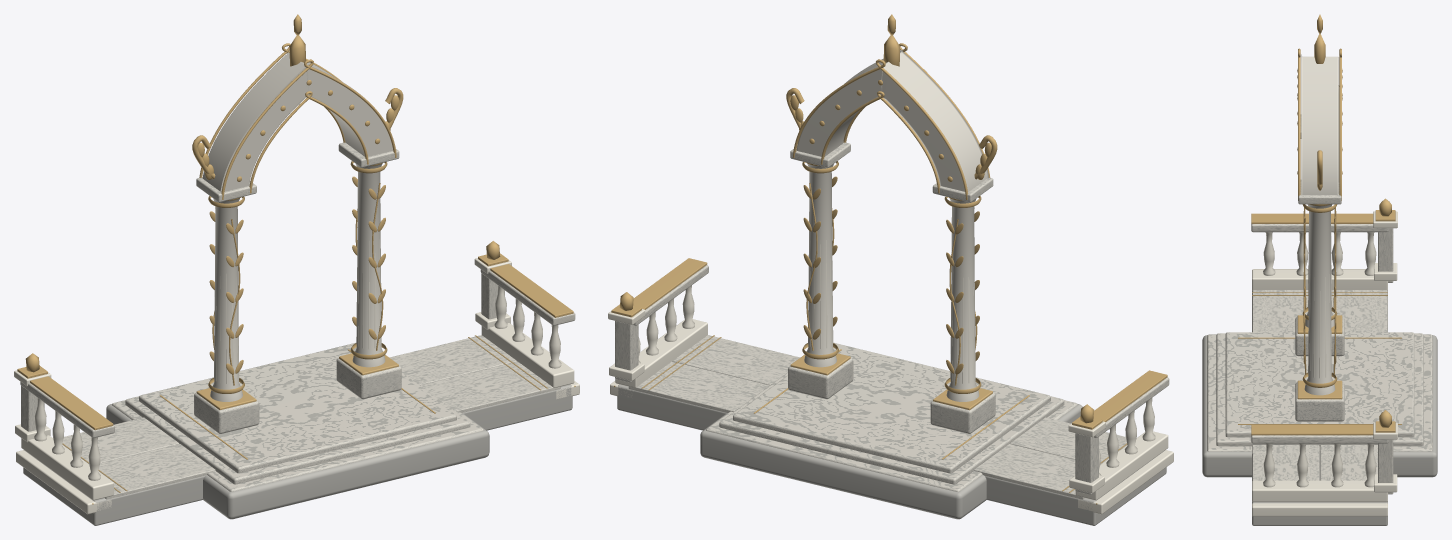
The model's file is river-architecture.glb.
3 views of the same model, side by side, from view 1: azimuth 30°, elevation 25°; view 2: azimuth 150°, elevation 25°; view 3: azimuth 270°, elevation 25° (orthographic). The views are drawn at different scales.
Visible parts, largest first — view 1: Portal, BridgeRoad, BridgeLeftRail, BridgeRightRail; view 2: Portal, BridgeRoad, BridgeLeftRail, BridgeRightRail; view 3: Portal, BridgeRoad, BridgeRightRail, BridgeLeftRail.
Part boxes in pixels (x1,y1,x2,y2): Portal: [106, 14, 489, 519]; BridgeRoad: [16, 335, 579, 525]; BridgeLeftRail: [14, 353, 114, 500]; BridgeRightRail: [474, 241, 575, 387]; Portal: [700, 14, 1082, 519]; BridgeRoad: [610, 335, 1173, 525]; BridgeLeftRail: [1068, 370, 1169, 500]; BridgeRightRail: [608, 258, 708, 387]; Portal: [1202, 14, 1437, 477]; BridgeRoad: [1252, 290, 1387, 525]; BridgeRightRail: [1251, 410, 1397, 502]; BridgeLeftRail: [1251, 198, 1397, 290].
Bounding box in the file's own units: 8.65 × 7.22 × 3.8.
5 materials, 1 textured.
